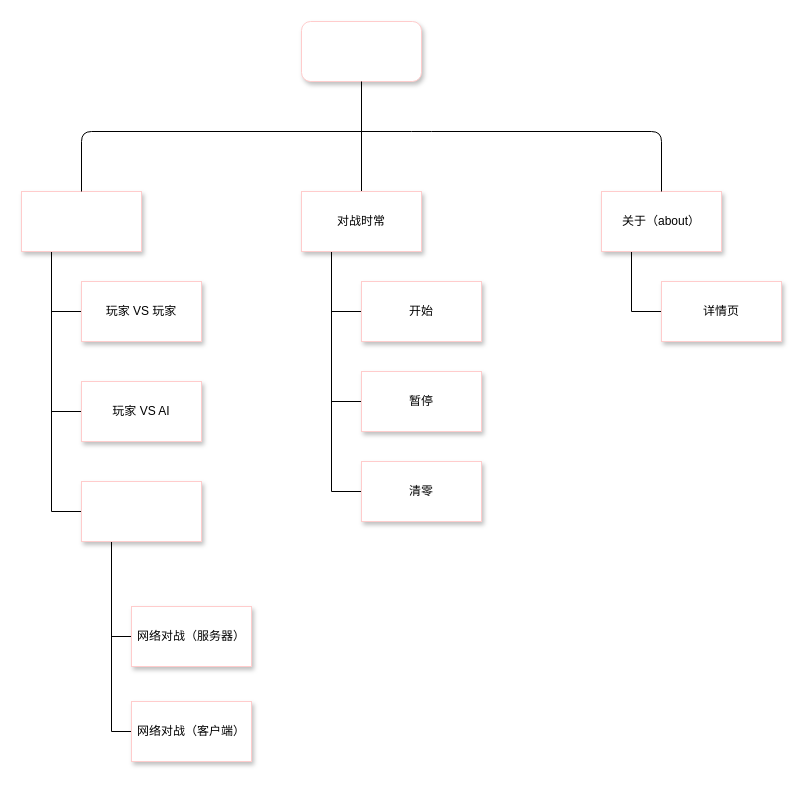
This 805x786 diagram has some shape labels left out. Each missing label, with the centre of its shape:
"多人网络对战" goes at (142,512).
"游戏模式" goes at (82,222).
"象棋" goes at (362,52).
